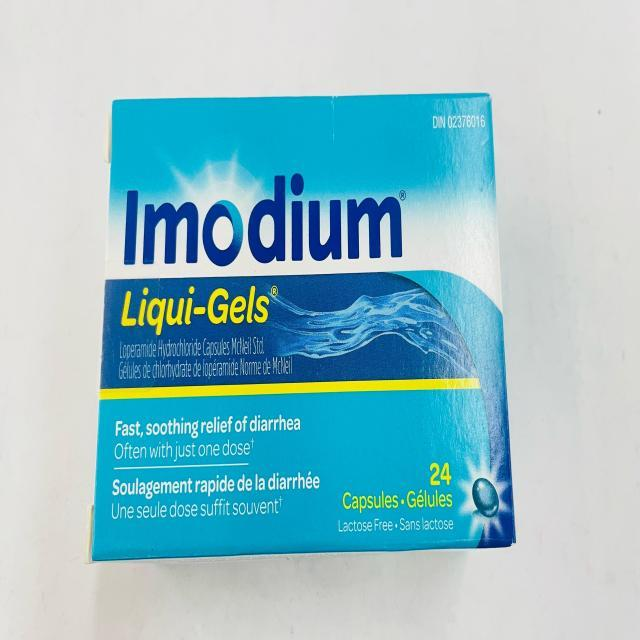Medicine Name: (119, 165, 407, 268)
